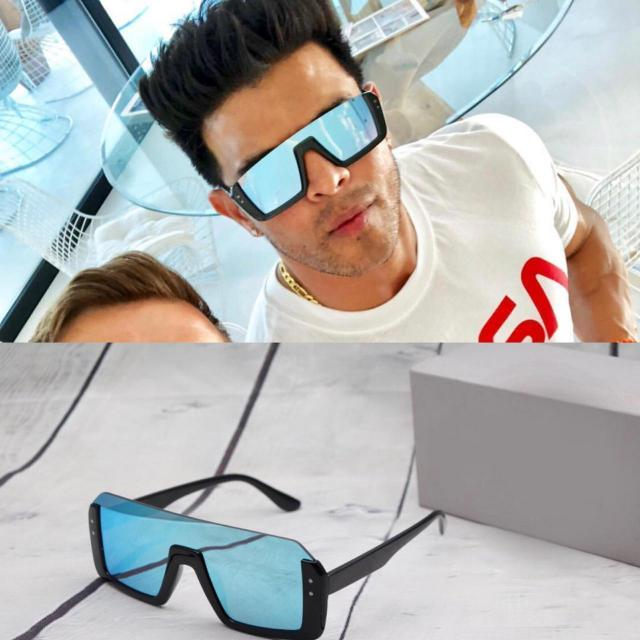suspicious-objects: (225, 82, 389, 226)
